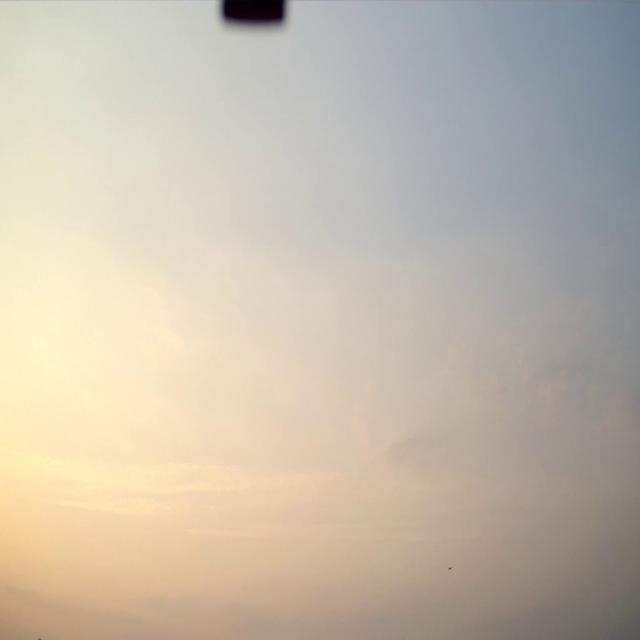drone: (449, 566, 453, 570)
